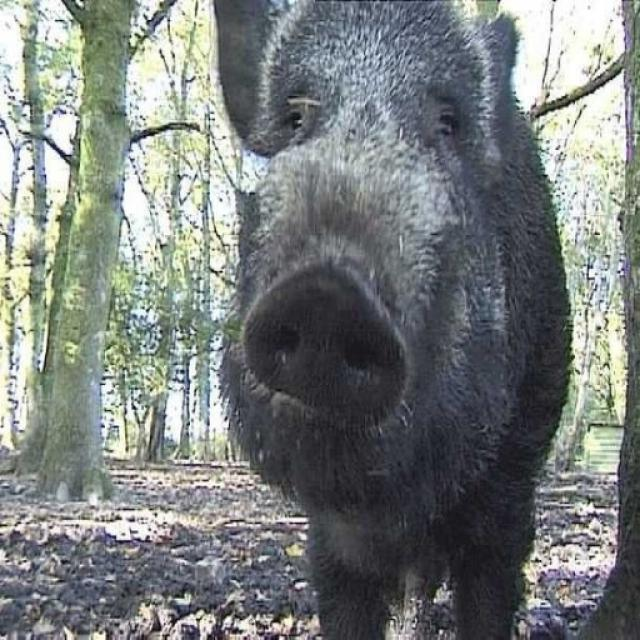pig: (142, 0, 618, 623)
